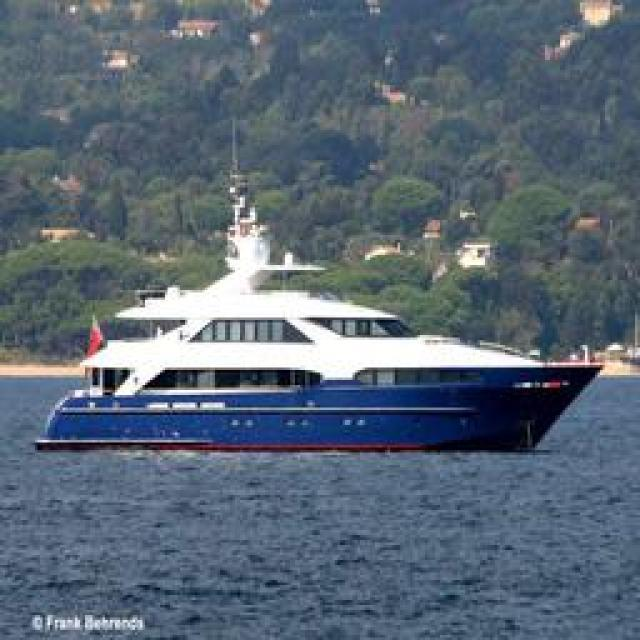CIV_Ship: (60, 264, 608, 454)
